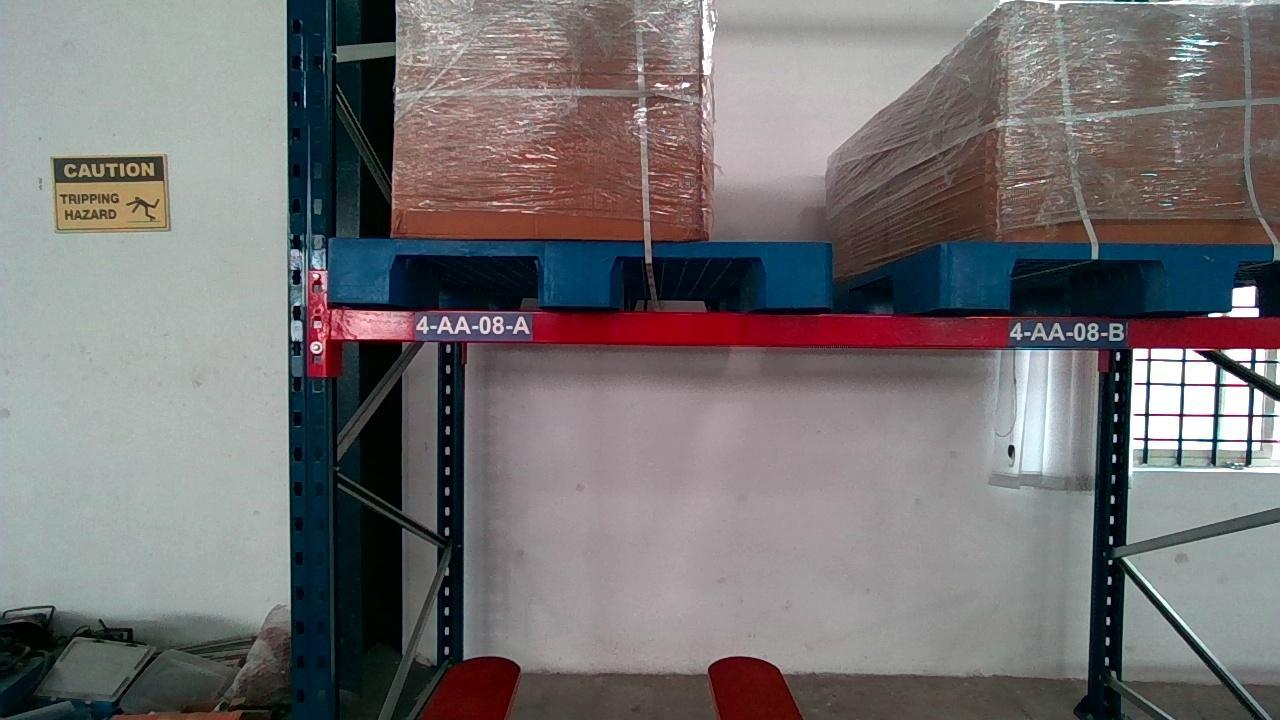h_rack: (316, 305, 1280, 350)
small_pallet: (325, 239, 825, 307), (942, 244, 1280, 314)
